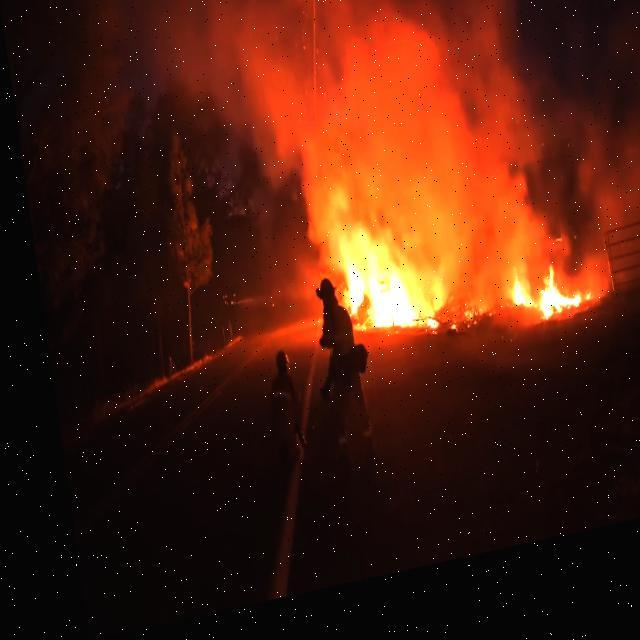Fire: (326, 234, 444, 368), (496, 278, 582, 350)
